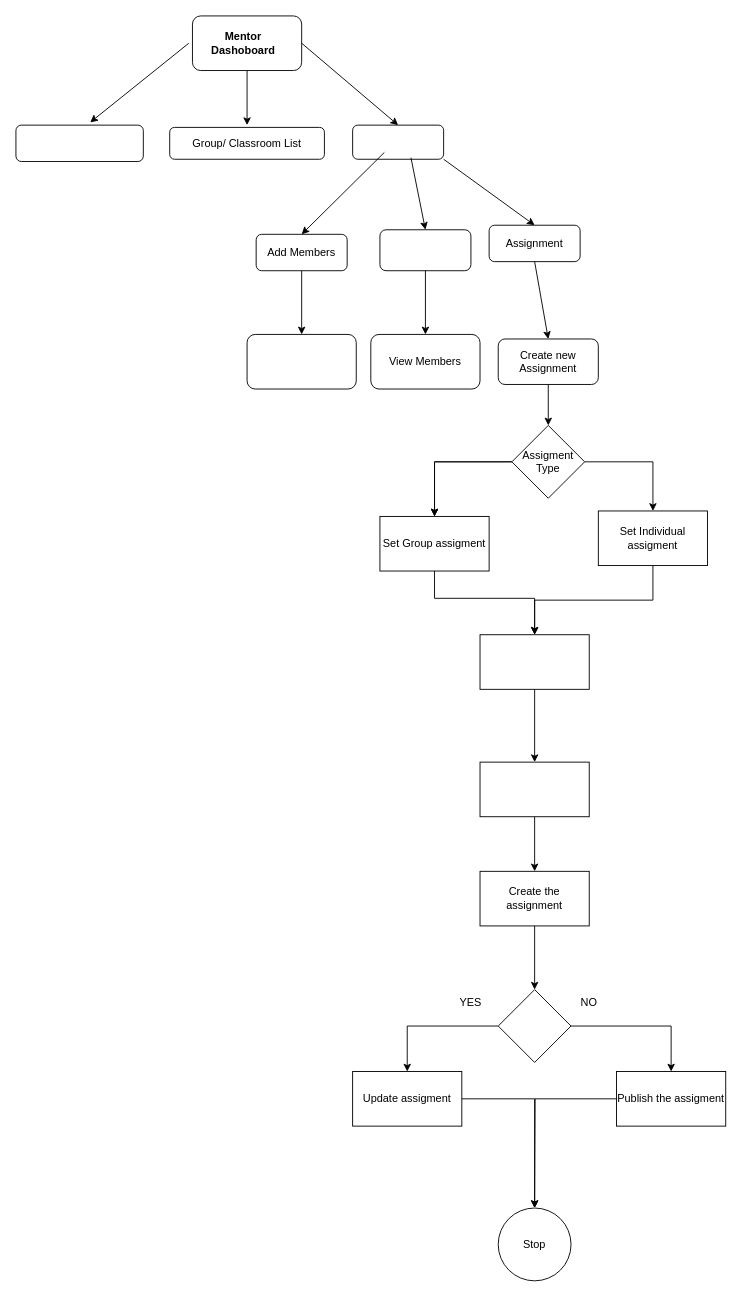
Image size: 742x1297. Some labels were removed from this diagram. The shapes that lost their labels are listed below. From the top down, each one's centre as x and y in pixels, then its label:
At [79,143]: "Create Classroom/Group".
At [398,141]: "Select Group/Classroom".
At [425,250]: "Add subgroups".
At [301,361]: "Divide members in subgroups".
At [534,661]: "Attach predefined template Circuit".
At [534,789]: "Define Test case of the circuit".
At [534,1025]: "Edit the assigment".
